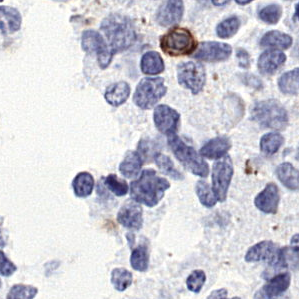Lymphocyte: (159, 26, 198, 56)
